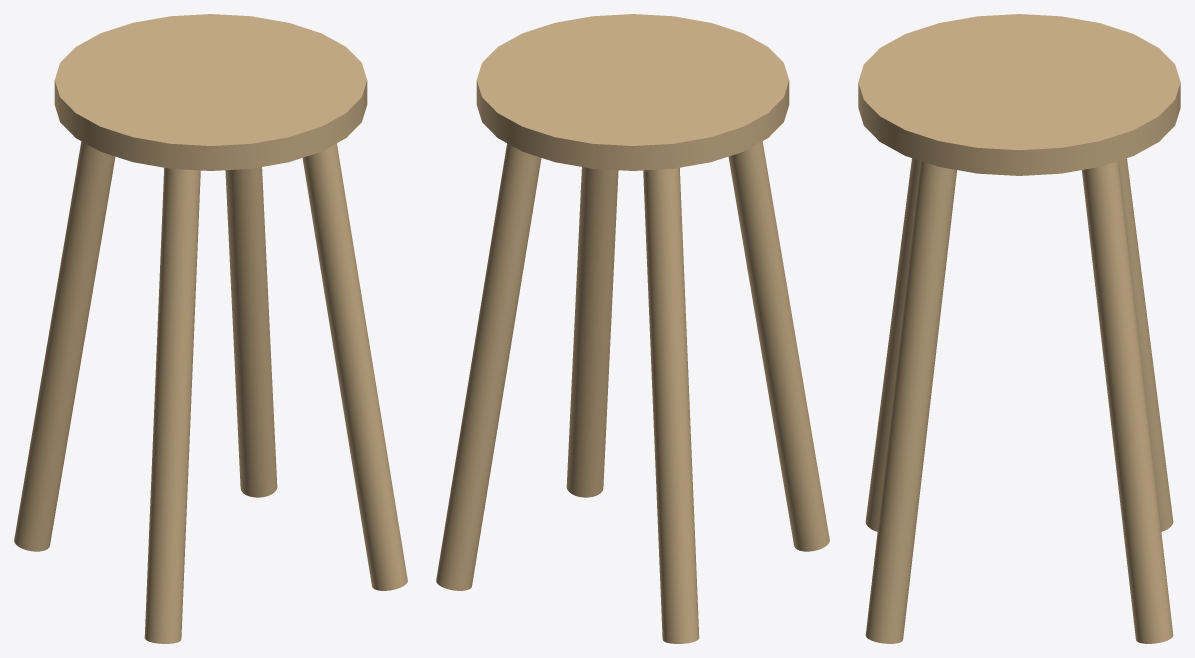
The model's file is stool.dae.
The picture shows the model from 3 angles, left to right: view 1: azimuth 30°, elevation 25°; view 2: azimuth 150°, elevation 25°; view 3: azimuth 270°, elevation 25°; orthographic projection. The views are drawn at different scales.
Parts seen in each view (by area): view 1: SketchUp (×5); view 2: SketchUp (×5); view 3: SketchUp (×5).
Part boxes in pixels (box(x1,y1,x2,y2)): SketchUp (×5): box(14, 14, 407, 643); SketchUp (×5): box(436, 14, 829, 643); SketchUp (×5): box(858, 14, 1180, 643).
Size of the model in its own units: 13.39 by 13.39 by 22.95.
Materials: 2 (1 with a texture image).
